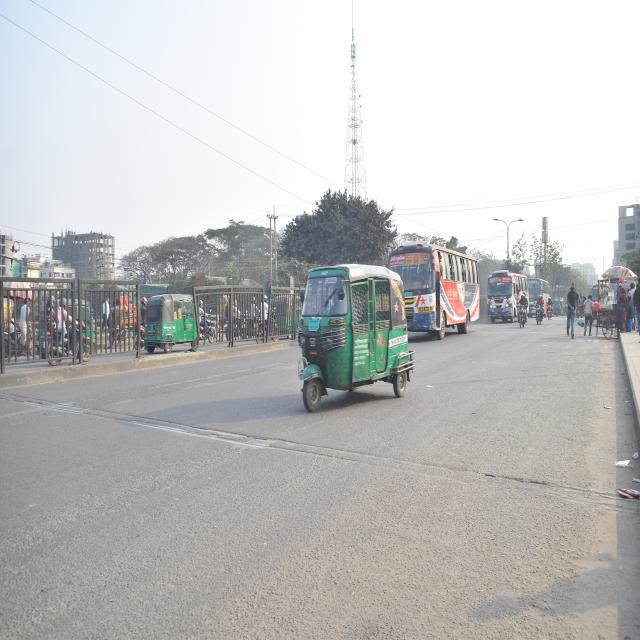bus: (386, 240, 481, 346), (484, 272, 518, 324), (525, 274, 551, 310)
motorbike: (513, 296, 529, 330), (532, 300, 548, 330), (546, 300, 556, 322)
